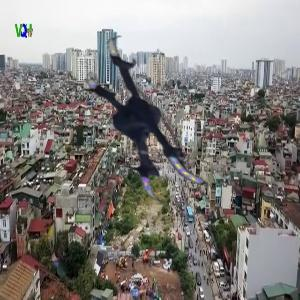drone: (71, 32, 241, 202)
